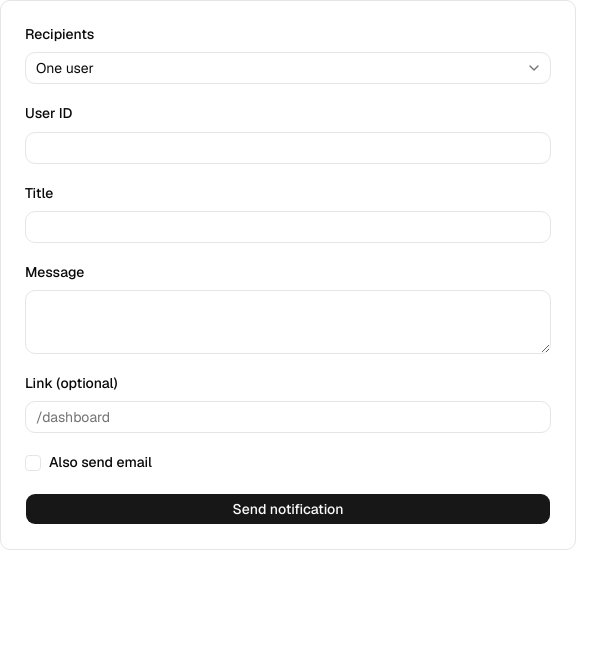
Test: SendNotificationForm › shows server field and form errors from the action result
This screenshot has width=593, height=663.
Type "recipient-1" into the field labelled "User ID" at (288, 148), box [25, 132, 551, 164]
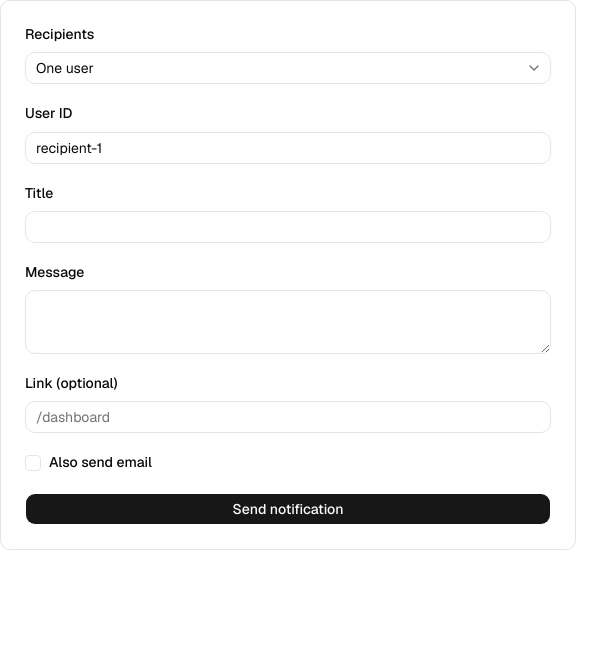
Type "Update" into the field labelled "Title" at (288, 227), box [25, 211, 551, 243]
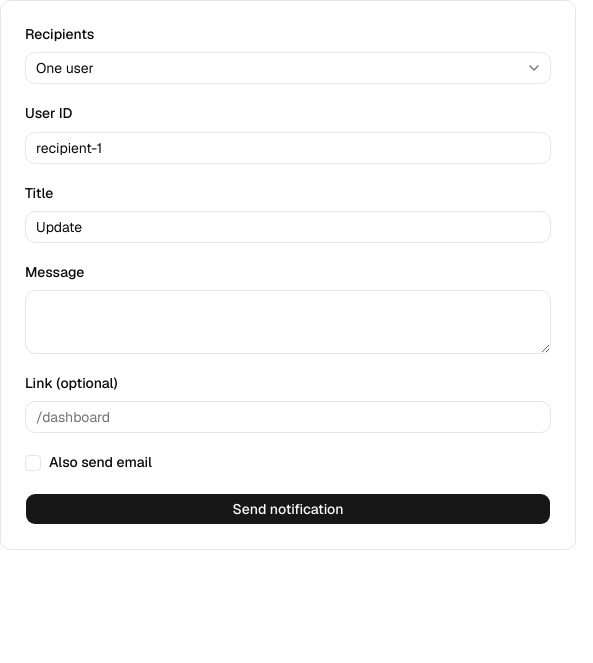
Type "News" into the text box labelled "Message" at (288, 322), box [25, 290, 551, 354]
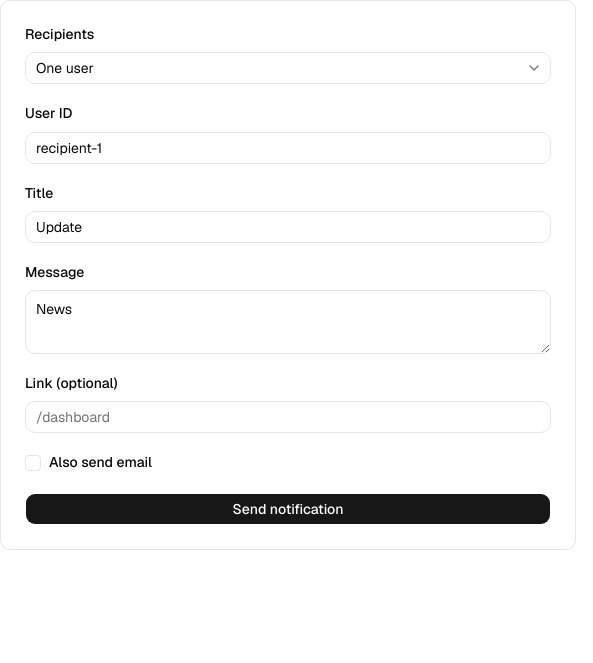
Click the button "Send notification" at (288, 508), box [25, 492, 551, 524]
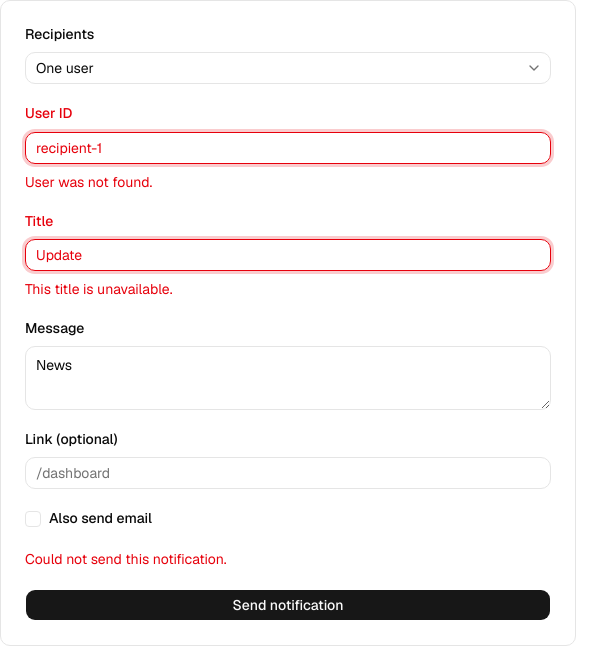
Check: the text "Could not send this notification." is shown, box [25, 550, 227, 568]
Check: the text "This title is unavailable." is shown, box [25, 280, 172, 298]
Check: the text "User was not found." is shown, box [25, 172, 152, 190]
